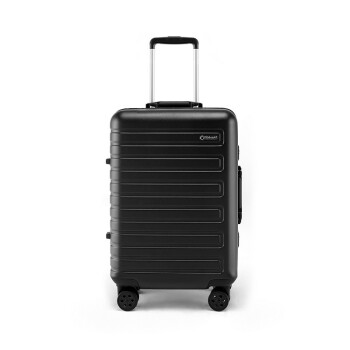box: (110, 108, 238, 289)
handle: (145, 101, 203, 108)
wheel: (208, 288, 231, 312), (117, 289, 139, 311)
